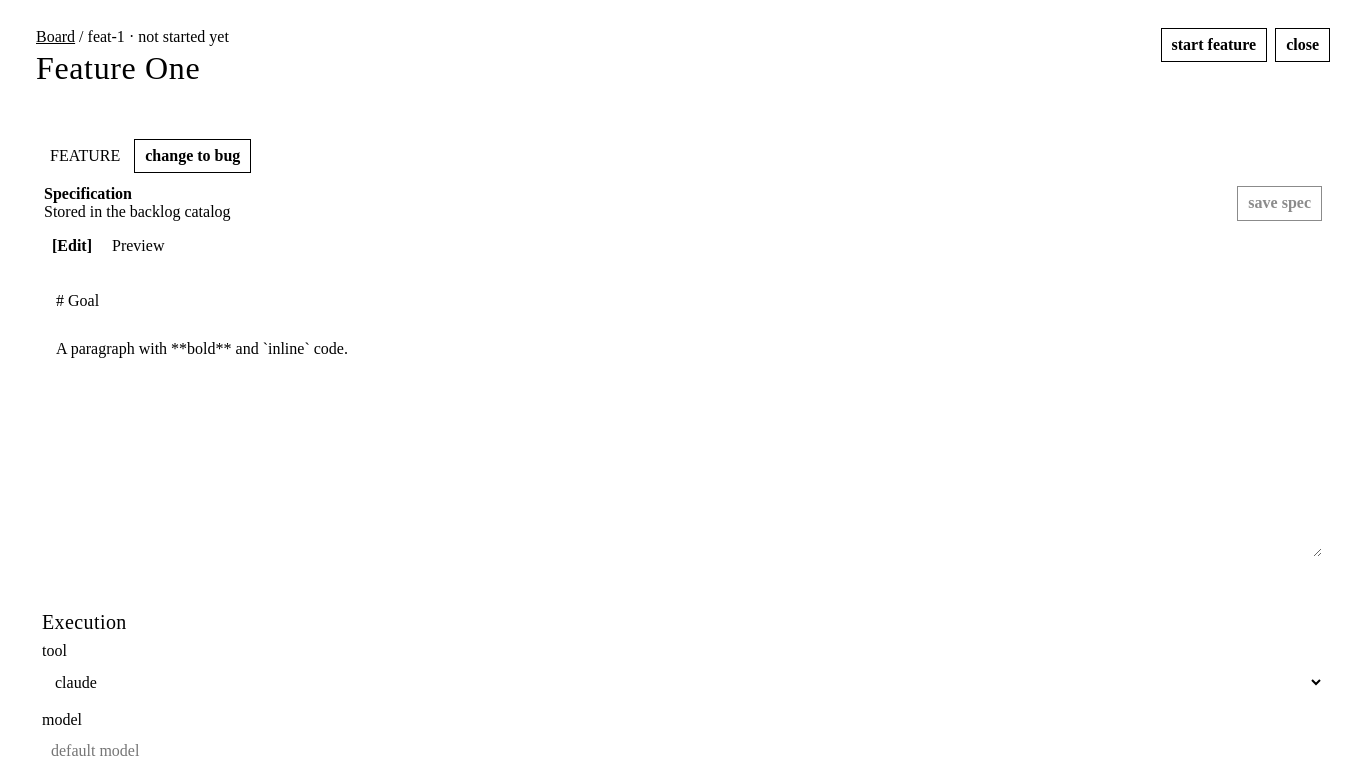
BacklogItemDetail spec markdown editor › renders the spec as markdown in the preview tab and reflects unsaved edits
The image size is (1366, 768).
Click the button "Preview" at (138,246), box [104,231,172,261]
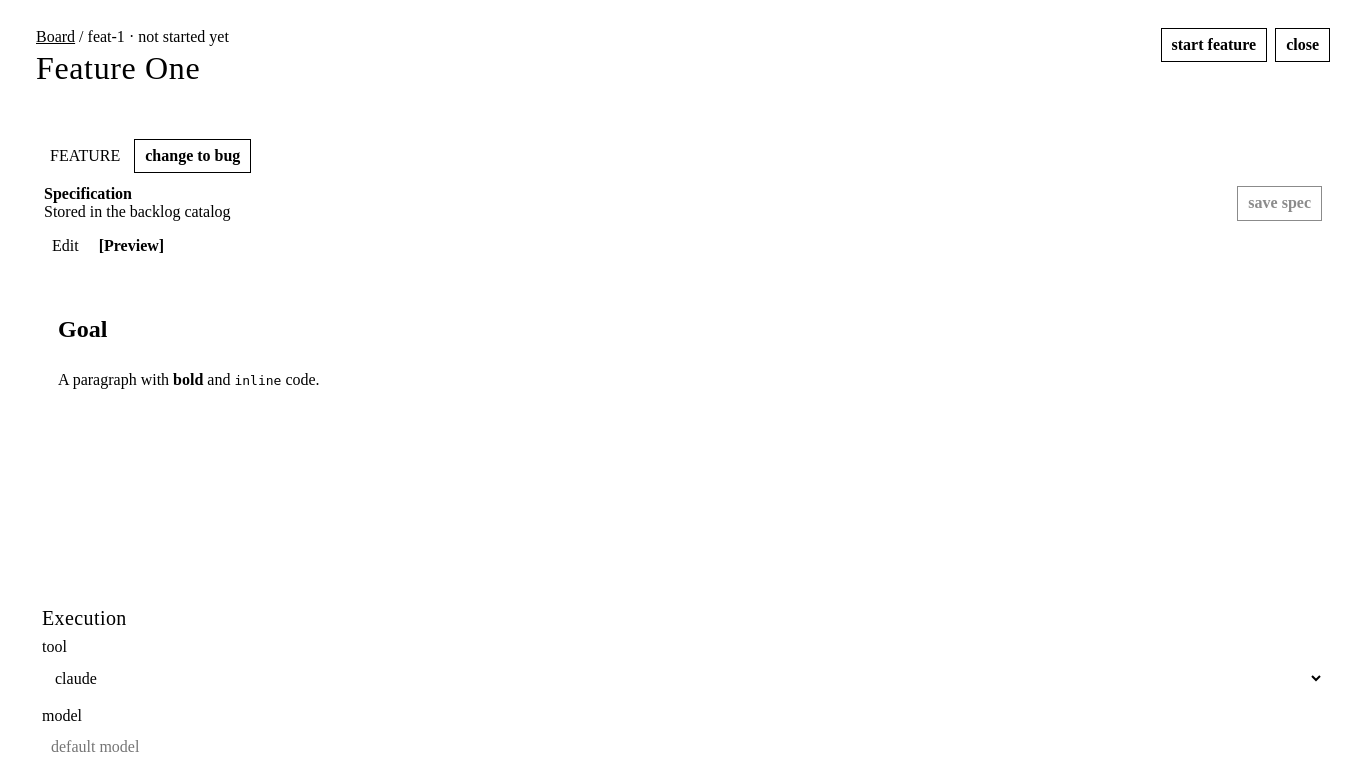
Check: the element with test id "spec-preview" is shown, box [58,316,320,388]
Check: the element with test id "spec-preview" shows "Goal", box [58,316,107,342]
Check: the heading "Goal" is shown, box [58,316,107,342]
